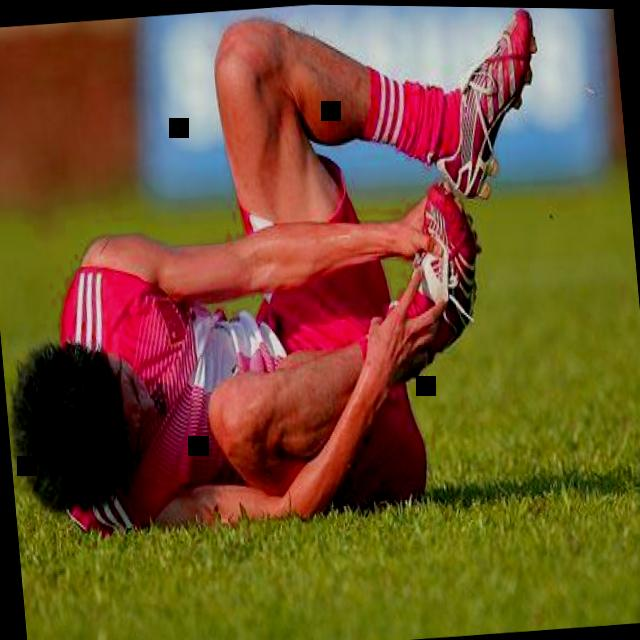Fall-Detected: (0, 0, 547, 590)
